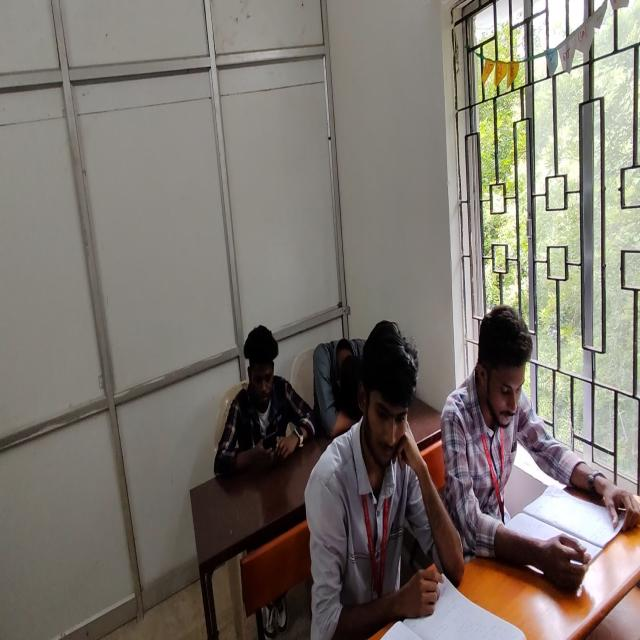reading: (442, 306, 640, 594), (305, 320, 450, 639)
sleeping: (314, 336, 369, 442)
using_mobile: (217, 322, 319, 477)
